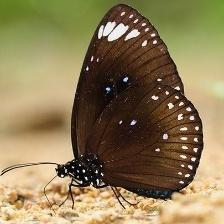butterfly: (57, 4, 204, 198)
